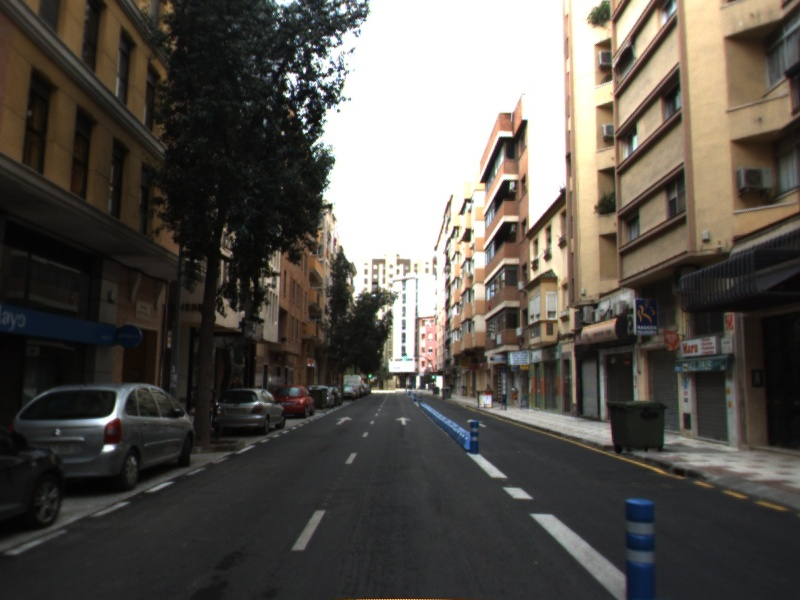STRAIGHT: (334, 415, 354, 426), (394, 415, 412, 426)
